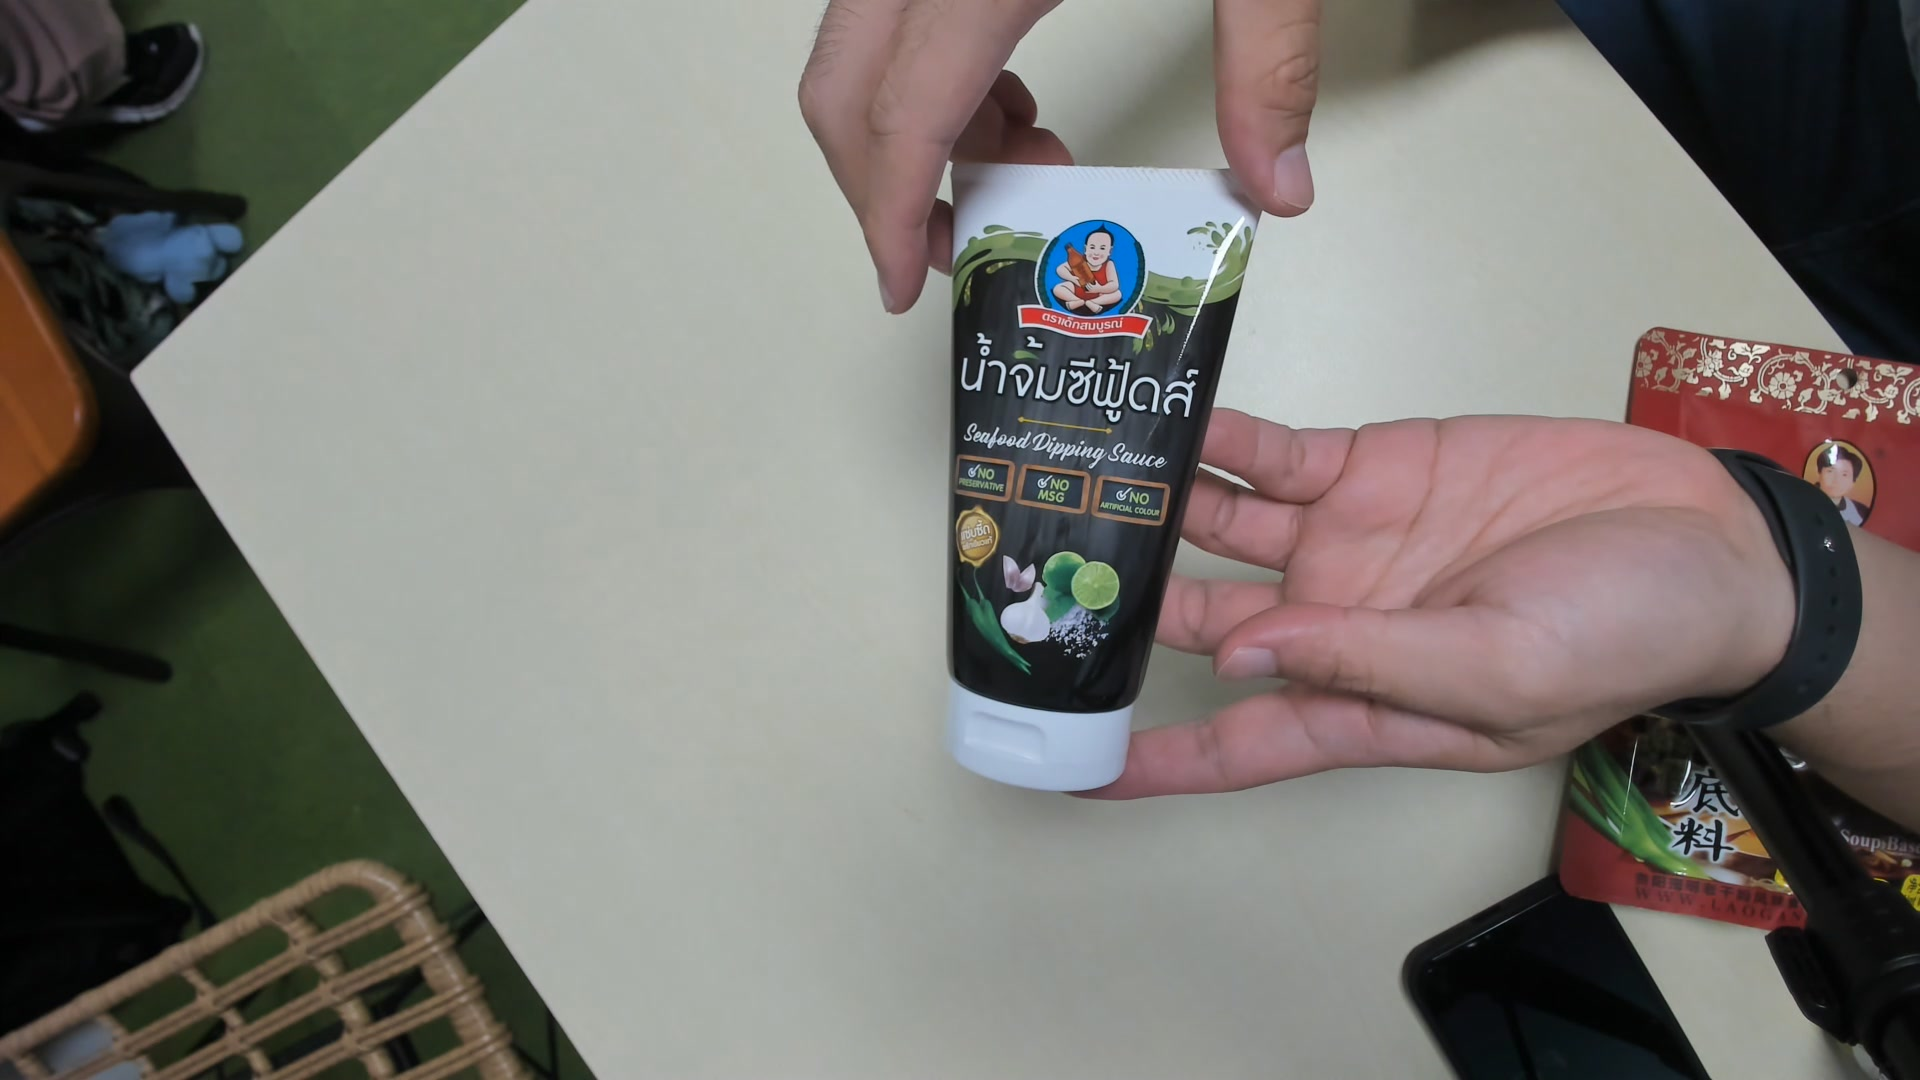OtherSauceDressing_100-199g_NonHalal_NonHealthy: (945, 165, 1255, 802)
